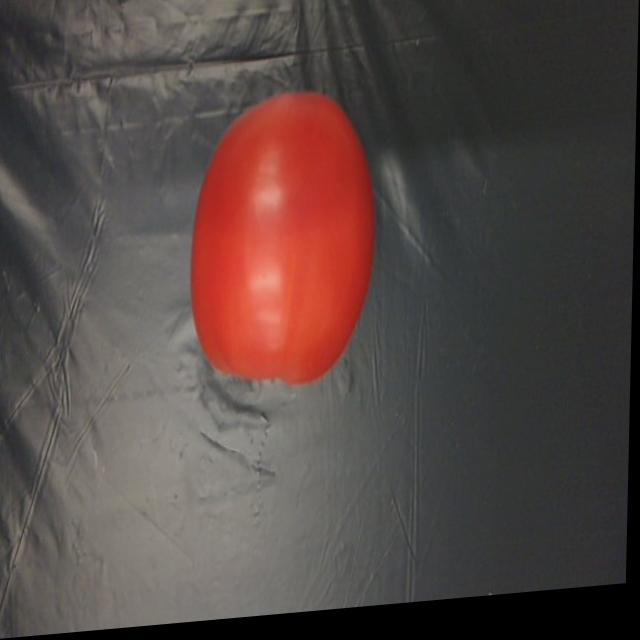kirmizi: (186, 78, 374, 398)
